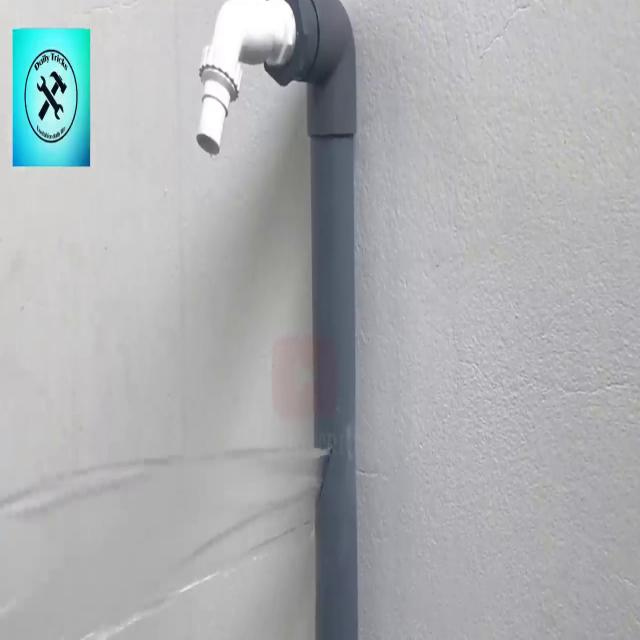leak: (0, 448, 334, 640)
